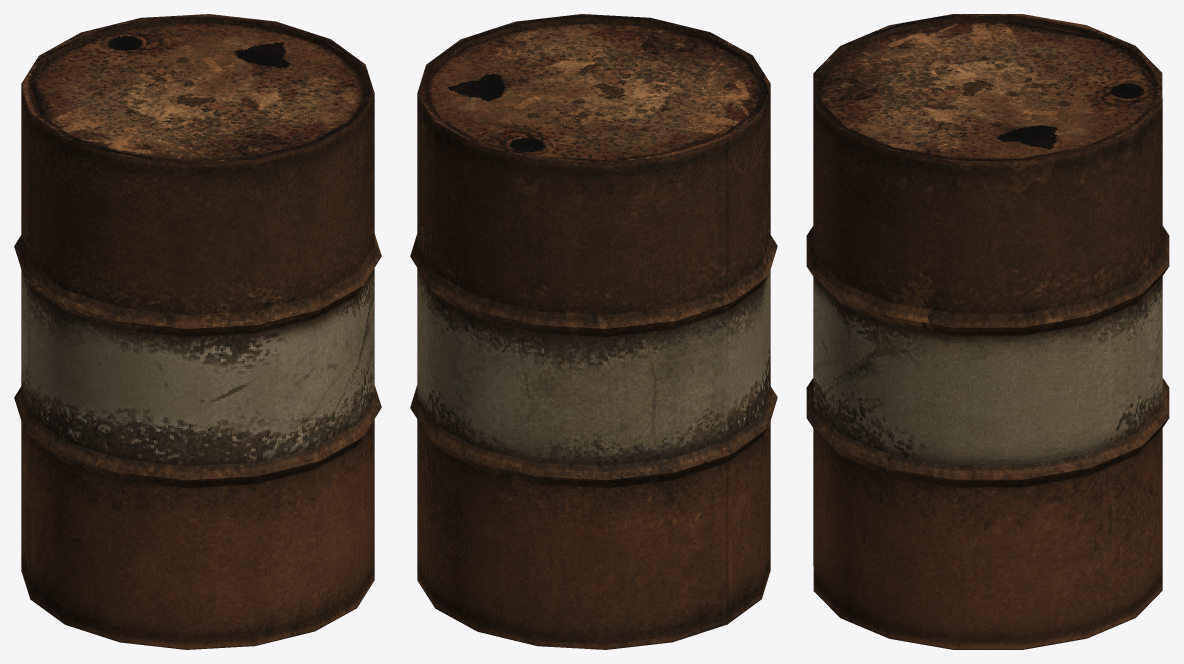
File: metal_barrel_hr_2.glb
3 views of the same model, side by side, from view 1: azimuth 30°, elevation 25°; view 2: azimuth 150°, elevation 25°; view 3: azimuth 270°, elevation 25° (orthographic).
Parts seen in each view (by area): view 1: metal_barrel_hr_2; view 2: metal_barrel_hr_2; view 3: metal_barrel_hr_2.
Boxes of the visible parts, box(x1,y1,x2,y2) form: metal_barrel_hr_2: box(14, 14, 381, 649); metal_barrel_hr_2: box(410, 14, 777, 649); metal_barrel_hr_2: box(806, 14, 1169, 649).
Bounding box in the file's own units: 0.6735 × 1 × 0.6735.
1 material, 1 textured.
